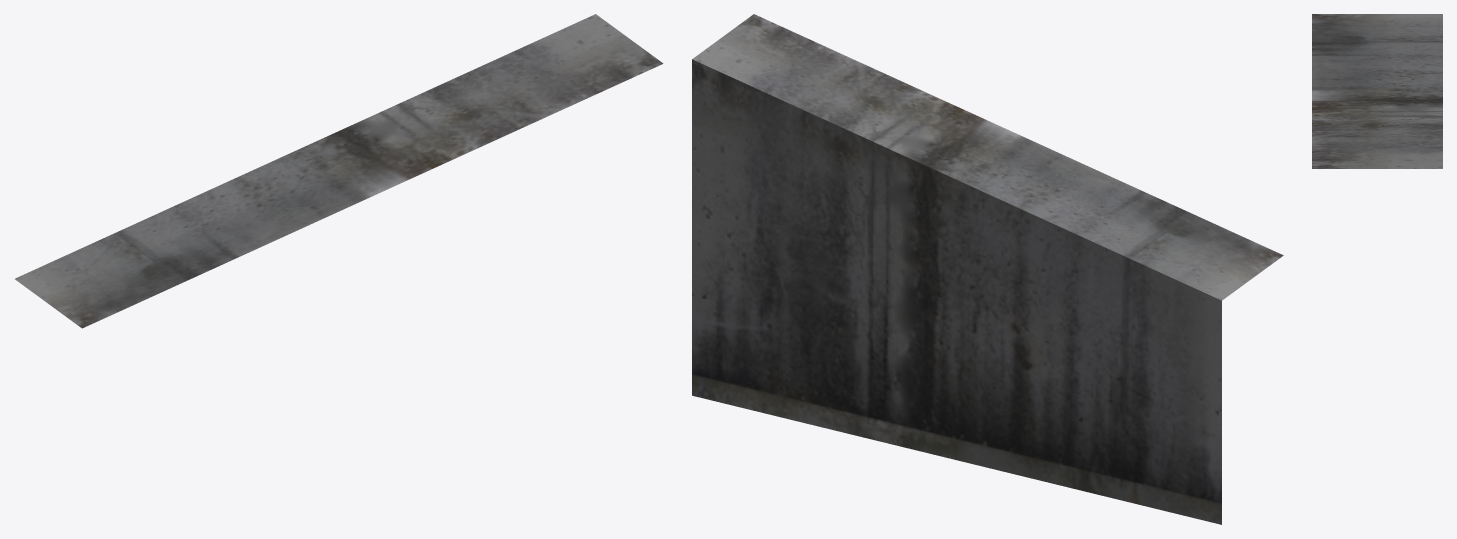
File: tunel_lodni_zed_2.glb
The picture shows the model from 3 angles, left to right: view 1: azimuth 30°, elevation 25°; view 2: azimuth 150°, elevation 25°; view 3: azimuth 270°, elevation 25°; orthographic projection. The views are drawn at different scales.
Visible parts, largest first — view 1: tunel_lodni_zed_2; view 2: tunel_lodni_zed_2; view 3: tunel_lodni_zed_2.
Part boxes in pixels (x1,y1,x2,y2): tunel_lodni_zed_2: [15, 14, 663, 328]; tunel_lodni_zed_2: [692, 14, 1283, 524]; tunel_lodni_zed_2: [1312, 14, 1442, 168].
Bounding box in the file's own units: 4.95 × 3 × 1.
1 material, 1 textured.
